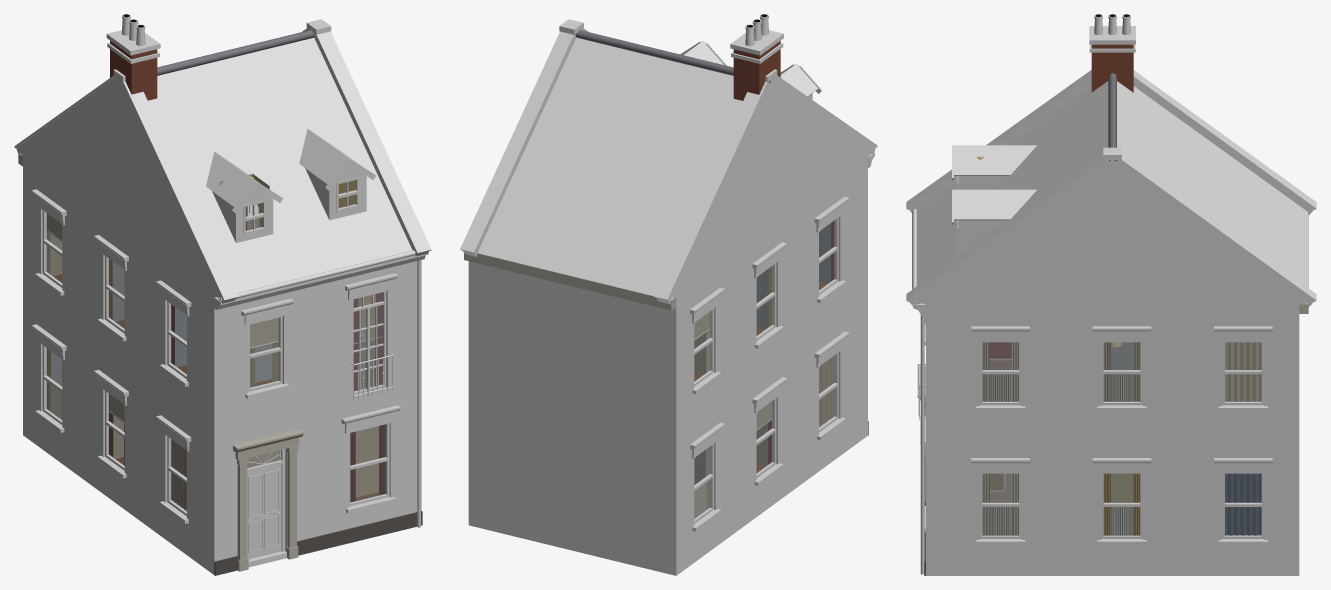
The model's file is GateStreet_Bend4.glb.
The picture shows the model from 3 angles, left to right: view 1: azimuth 30°, elevation 25°; view 2: azimuth 150°, elevation 25°; view 3: azimuth 270°, elevation 25°; orthographic projection. The views are drawn at different scales.
Visible parts, largest first — view 1: GateStreet_Bend4; view 2: GateStreet_Bend4; view 3: GateStreet_Bend4.
Part boxes in pixels (x1,y1,x2,y2): GateStreet_Bend4: (14, 14, 431, 575); GateStreet_Bend4: (460, 14, 877, 575); GateStreet_Bend4: (906, 14, 1316, 575).
Bounding box in the file's own units: 5.24 × 11.08 × 8.79.
